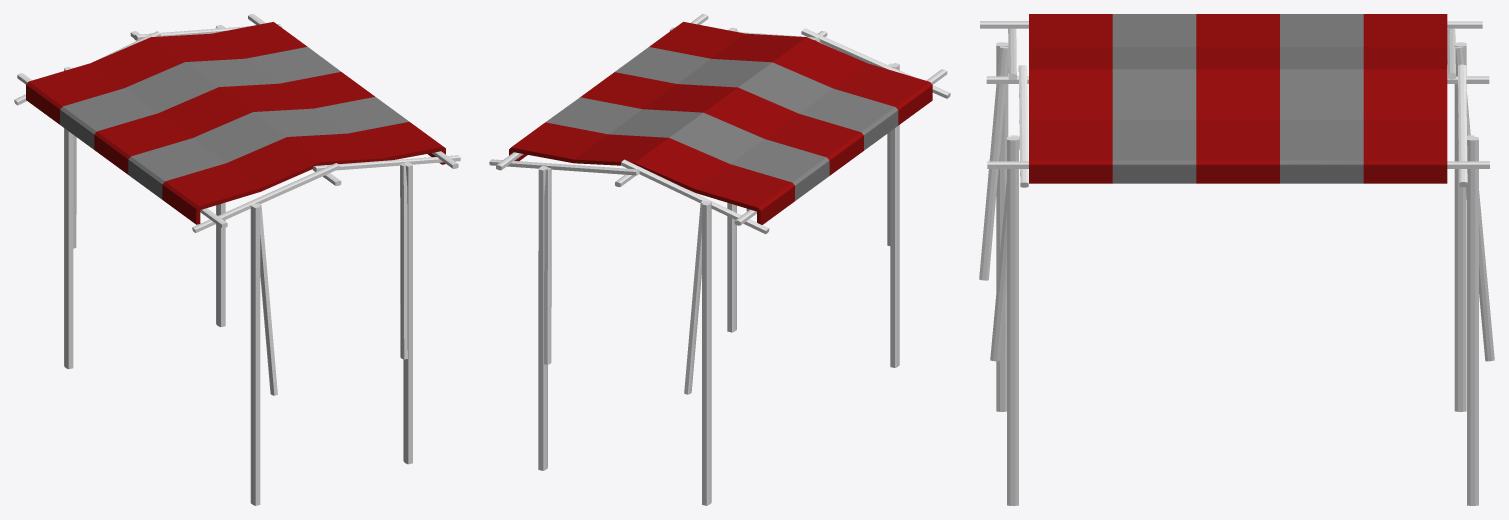
Rendered from MarketStall01.fbx.
The picture shows the model from 3 angles, left to right: view 1: azimuth 30°, elevation 25°; view 2: azimuth 150°, elevation 25°; view 3: azimuth 270°, elevation 25°; orthographic projection. The views are drawn at different scales.
Visible parts, largest first — view 1: Box026, Box029, Box022, Box031, Box032, Box030, Box027, Box034, Box033; view 2: Box026, Box022, Box029, Box027, Box028, Box023, Box031, Box025, Box024, Box034; view 3: Box026, Box027, Box031, Box022, Box029, Box030, Box032, Box028, Box033, Box024, Box011, Box018.
Part boxes in pixels (x1,y1,x2,y2): Box026: (26, 22, 445, 224); Box029: (250, 203, 260, 505); Box022: (64, 66, 73, 369); Box031: (403, 162, 412, 464); Box032: (400, 163, 407, 359); Box030: (256, 203, 277, 395); Box027: (216, 25, 225, 327); Box034: (192, 163, 339, 232); Box033: (312, 155, 460, 171); Box026: (509, 21, 932, 224); Box022: (702, 201, 711, 505); Box029: (890, 63, 899, 367); Box027: (538, 166, 547, 470); Box028: (544, 167, 551, 364); Box023: (684, 200, 705, 394); Box031: (727, 27, 736, 332); Box025: (621, 159, 769, 234); Box024: (489, 159, 639, 175); Box034: (801, 28, 950, 98); Box026: (1029, 14, 1447, 183); Box027: (1467, 136, 1478, 505); Box031: (1007, 136, 1018, 505); Box022: (1454, 42, 1466, 411); Box029: (996, 42, 1008, 411); Box030: (979, 46, 1008, 280); Box032: (990, 135, 1019, 361); Box028: (1467, 135, 1494, 361); Box033: (1018, 65, 1028, 187); Box024: (1458, 64, 1467, 187); Box011: (987, 161, 1489, 168); Box018: (980, 21, 1482, 28).
Bounding box in the file's own units: 218 × 243 × 293.
